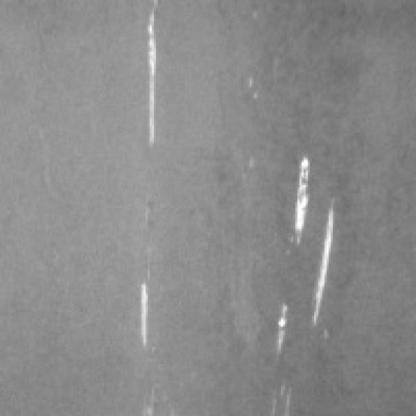scratches: (279, 196, 343, 343), (142, 6, 170, 154), (288, 154, 322, 258), (135, 276, 158, 360)
